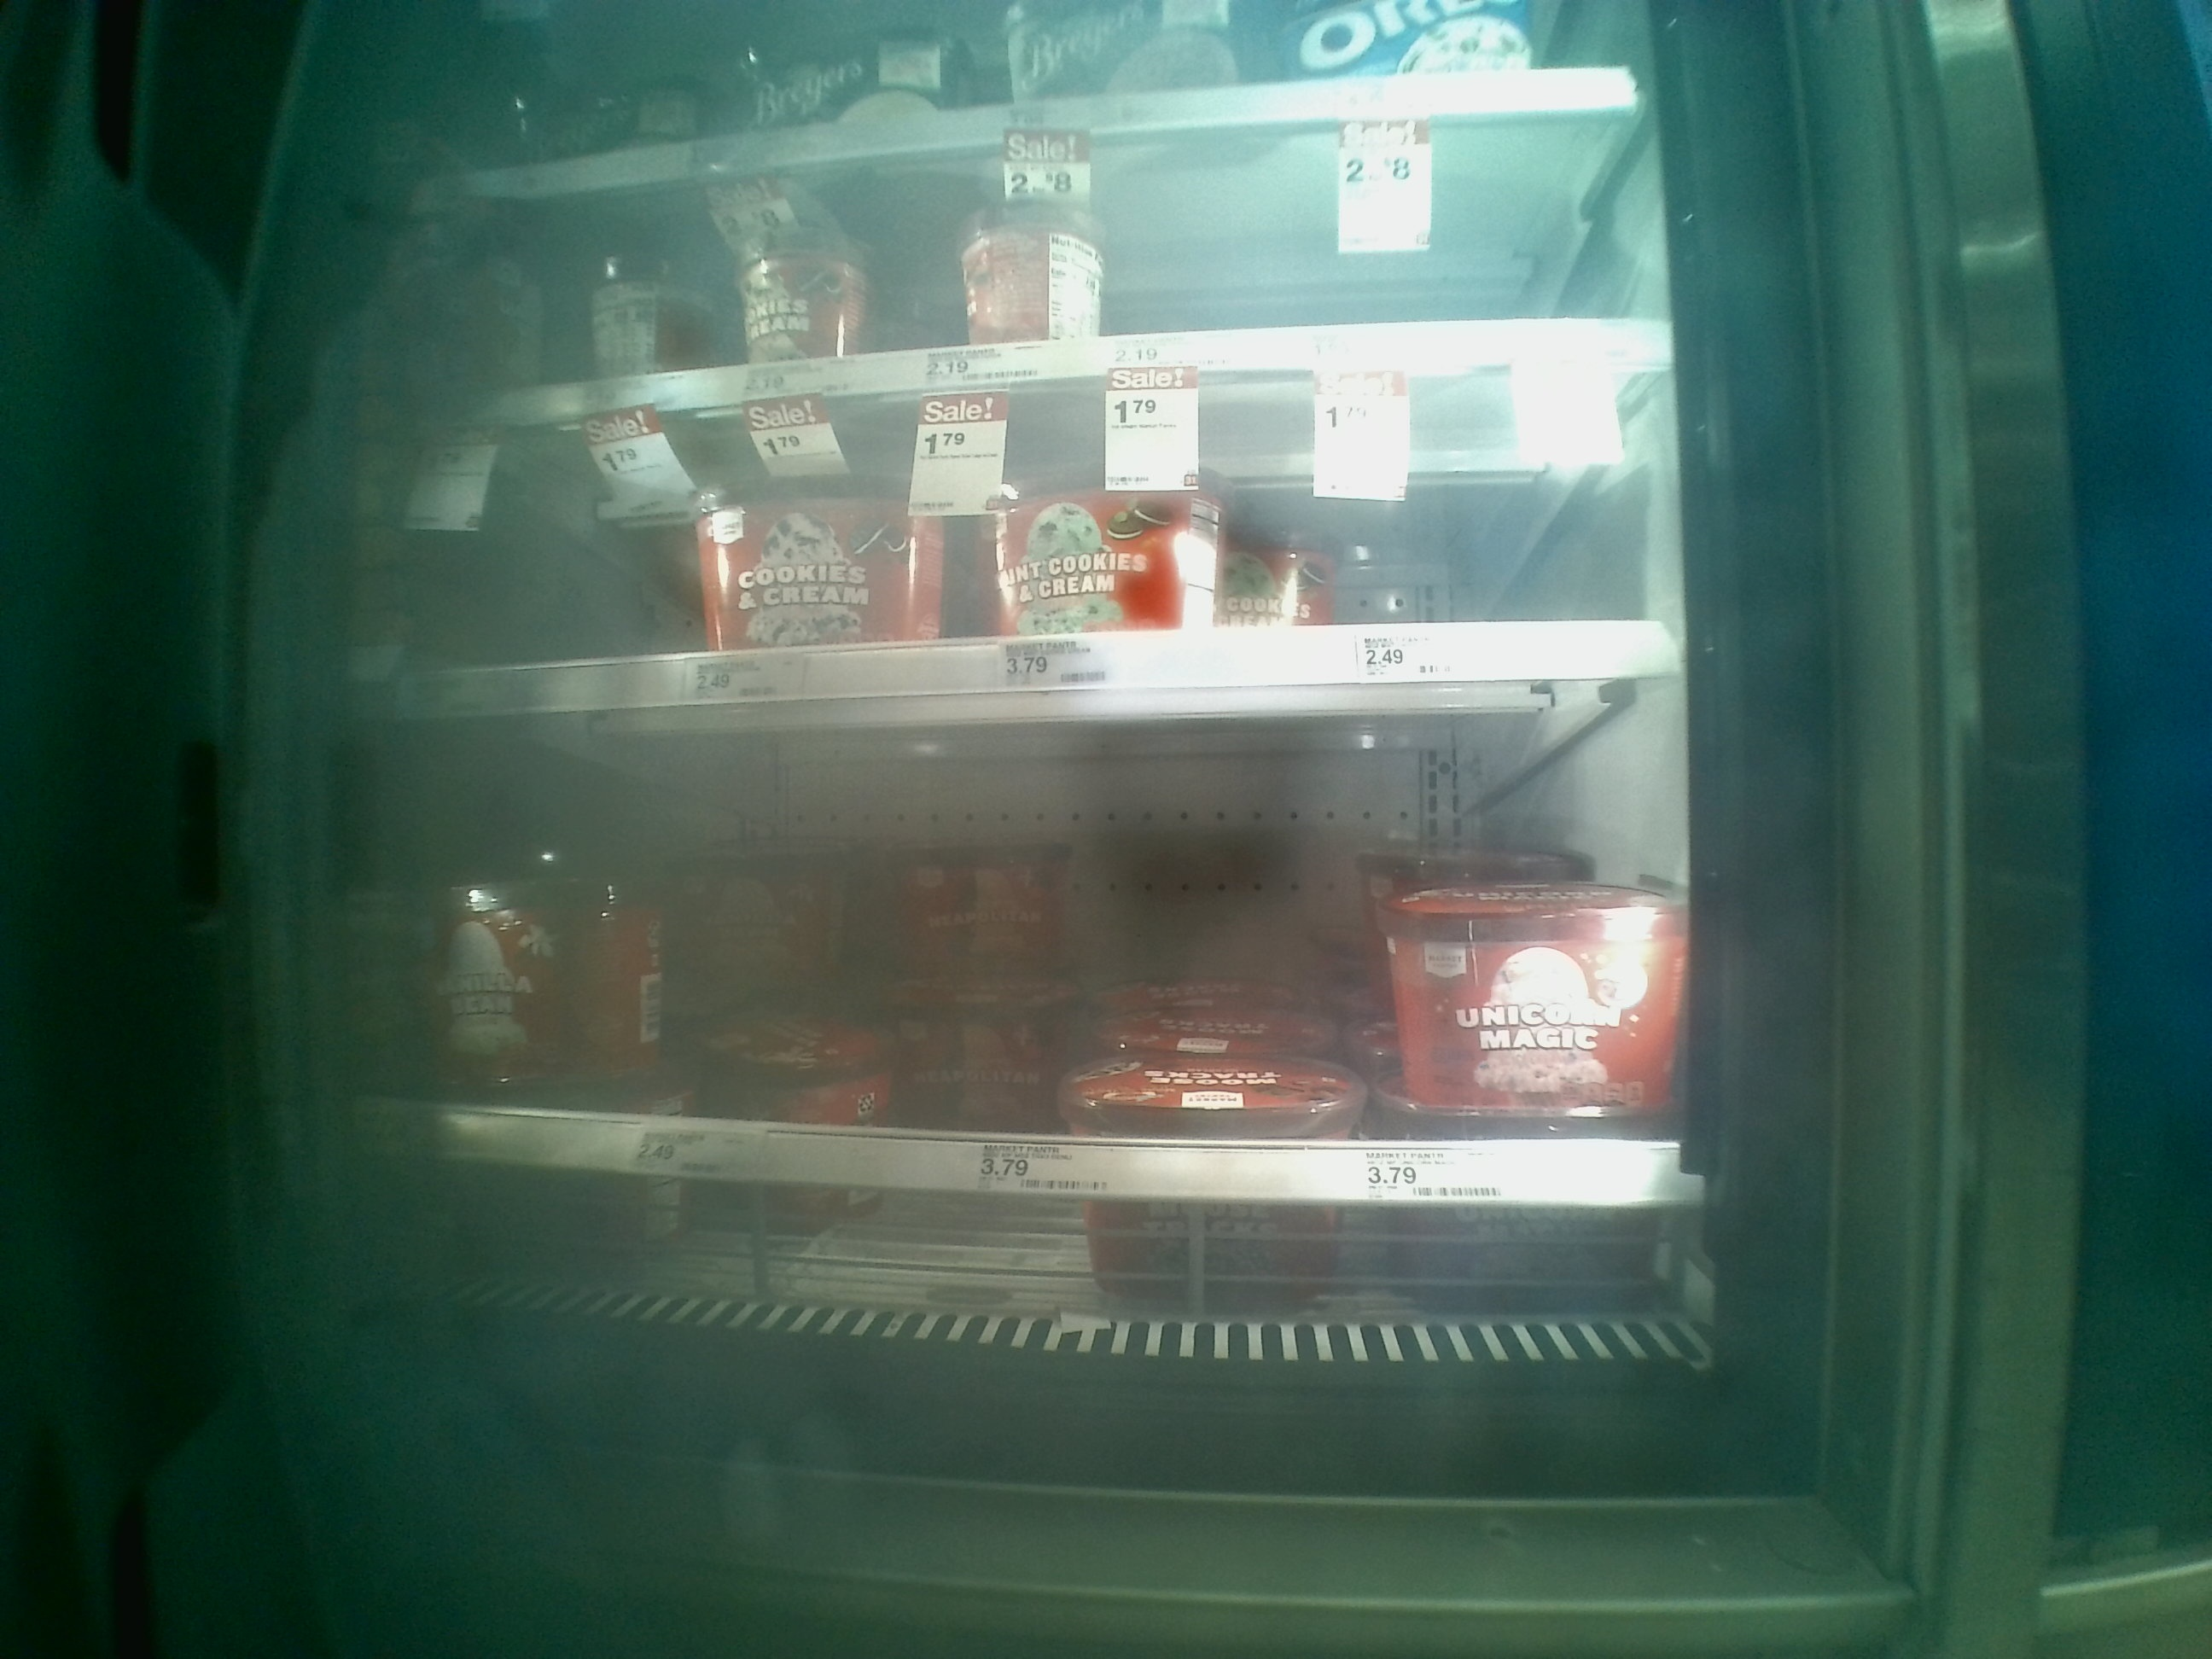ice-cream-shelf: (415, 706, 1707, 1236), (409, 368, 1681, 706)
